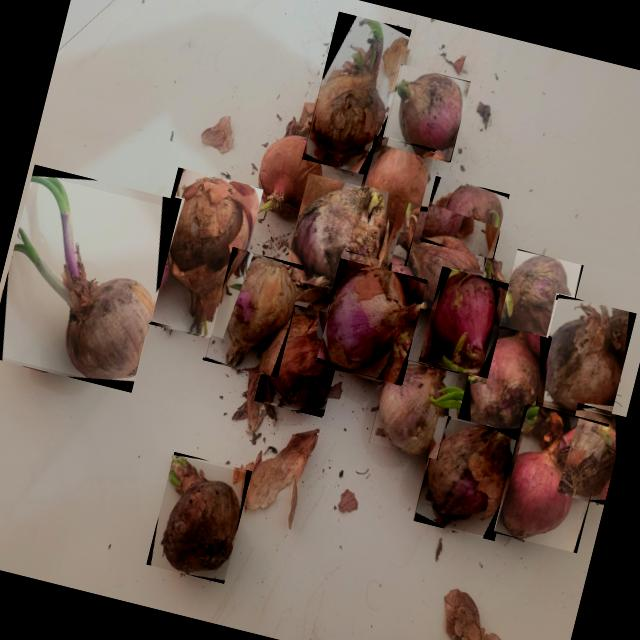healthy: (362, 140, 425, 261)
rotten: (164, 179, 257, 335), (309, 18, 384, 166), (323, 268, 419, 371), (292, 188, 386, 293), (161, 456, 240, 575), (540, 305, 621, 414), (219, 257, 296, 367), (426, 426, 510, 526), (397, 217, 481, 311), (468, 330, 539, 428), (265, 311, 334, 411), (378, 365, 447, 454), (506, 256, 571, 350), (426, 184, 500, 257), (395, 73, 460, 152), (565, 410, 615, 499)
sprouting: (12, 176, 153, 380), (500, 412, 606, 539), (432, 274, 494, 375)
